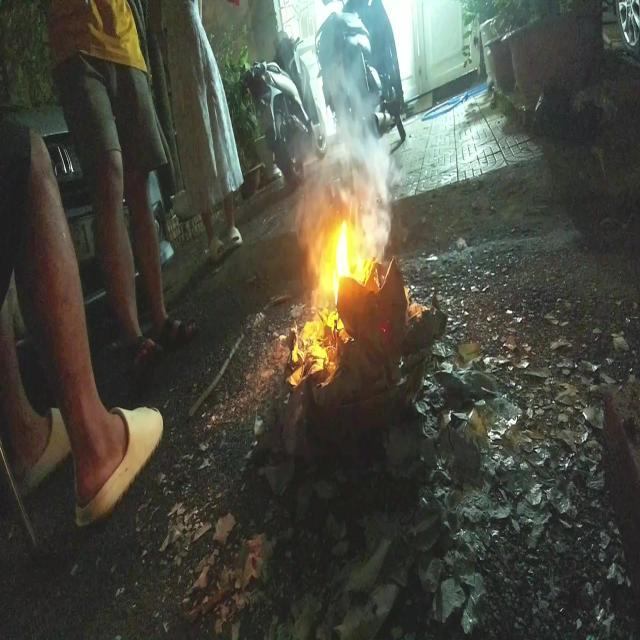Fire: (314, 220, 366, 318)
Smoke: (296, 87, 396, 254)
